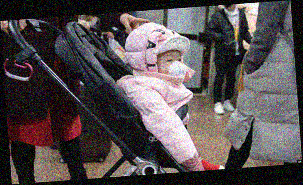with_mask: (158, 50, 187, 86)
